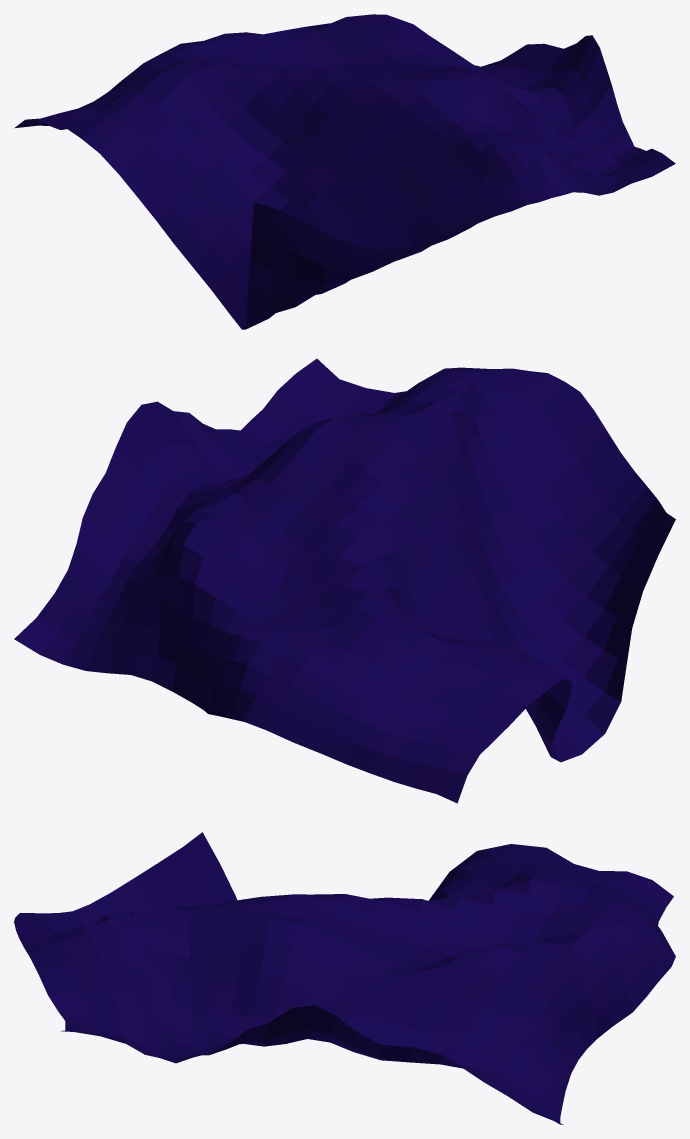
The model's file is clot.glb.
The picture shows the model from 3 angles, top to bottom: view 1: azimuth 30°, elevation 25°; view 2: azimuth 150°, elevation 25°; view 3: azimuth 270°, elevation 25°; orthographic projection. The views are drawn at different scales.
Visible parts, largest first — view 1: Plane.107; view 2: Plane.107; view 3: Plane.107.
Part boxes in pixels (<box>): Plane.107: <box>14,14,675,329</box>; Plane.107: <box>14,358,675,803</box>; Plane.107: <box>14,832,675,1124</box>.
Bounding box in the file's own units: 0.3093 × 0.1469 × 0.3695.
